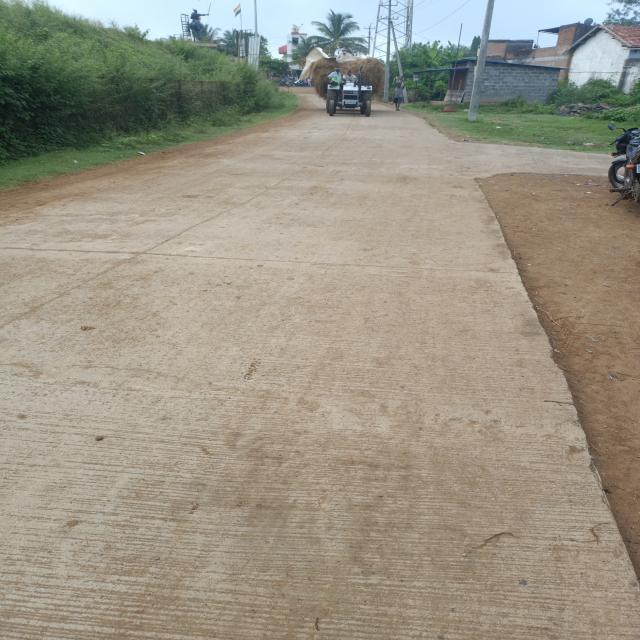Tractor: (309, 54, 384, 113)
